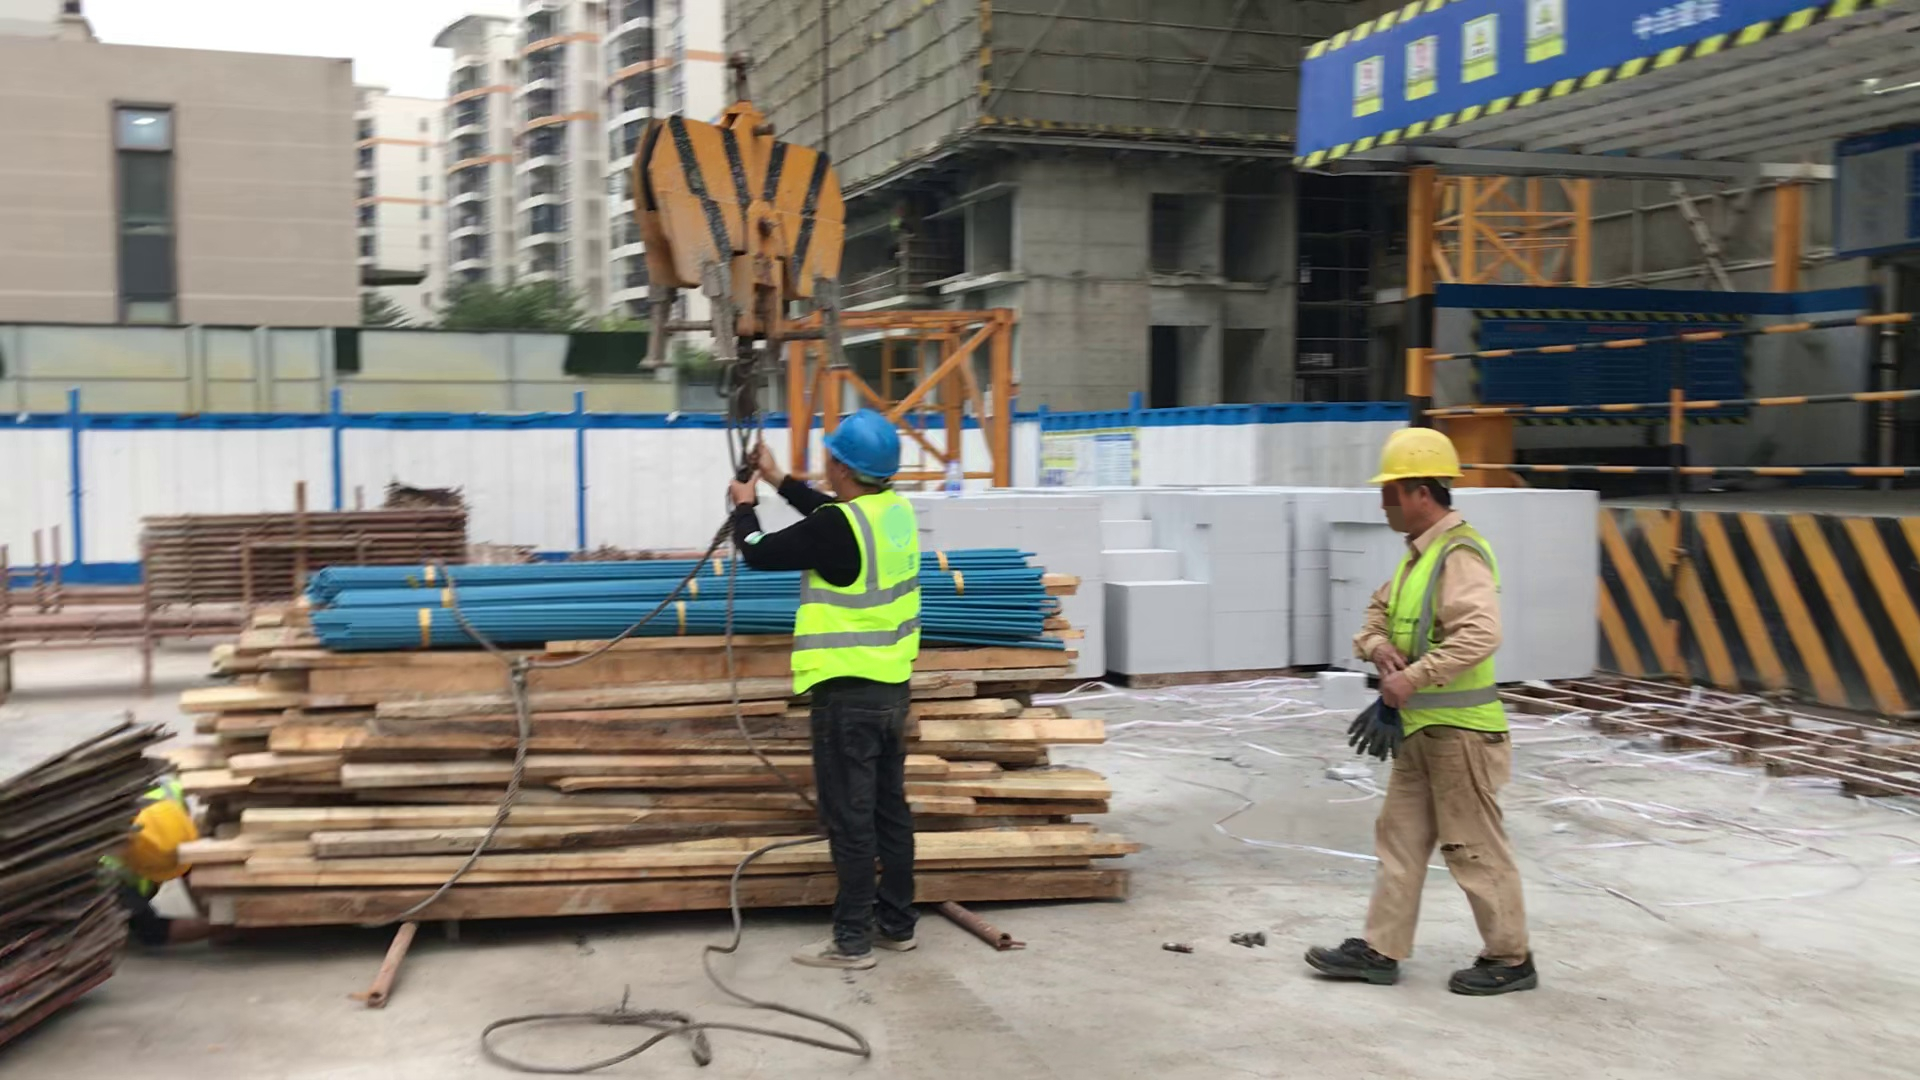board: (3, 704, 140, 1045)
brick: (955, 480, 1369, 683), (1481, 483, 1598, 685)
ebox: (1447, 395, 1510, 484)
helmet: (821, 409, 901, 485), (1371, 430, 1467, 486)
hook: (627, 100, 862, 407)
person: (740, 402, 929, 965), (1356, 422, 1534, 999)
scaffold: (135, 499, 462, 608)
slogan: (1326, 1, 1583, 130)
vest: (1381, 526, 1513, 747), (794, 492, 928, 697)
wood: (203, 619, 1134, 935)
